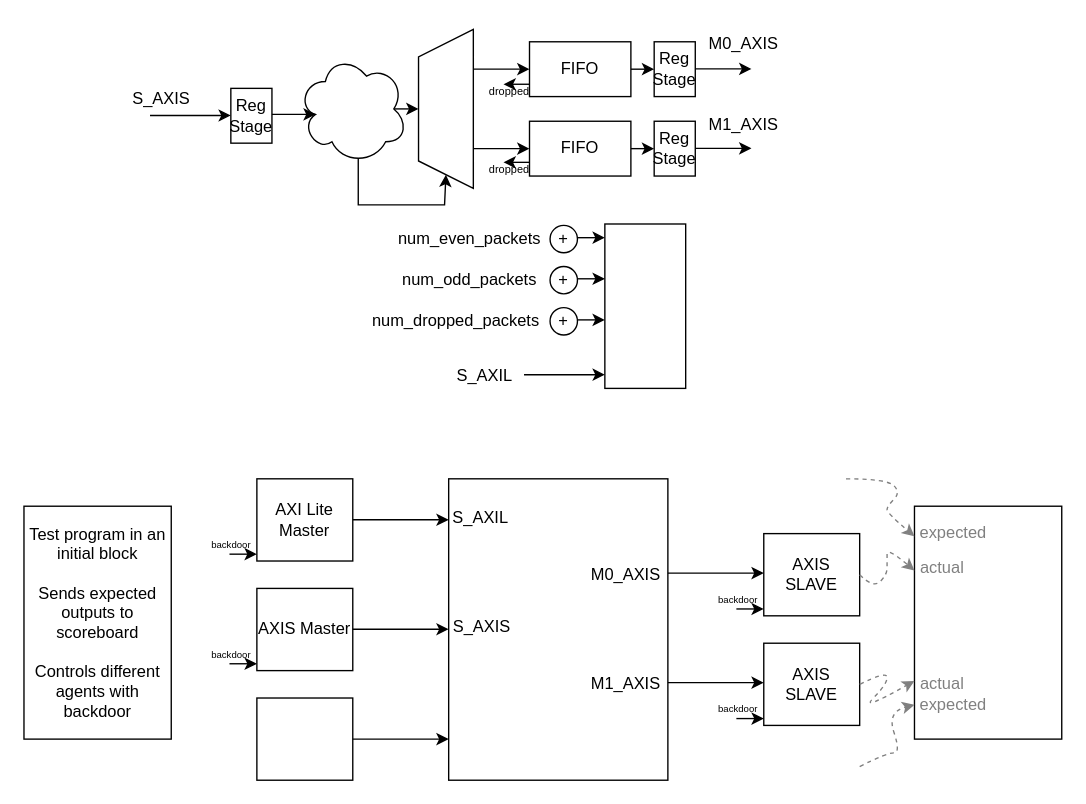
Image size: 1086x804. Some labels were removed from this diagram. Here are the shapes that lost their labels. From the top down, the box of each, then its label:
(297, 53, 408, 164): decision
(603, 223, 686, 388): Register bank
(447, 477, 668, 780): DUT
(913, 505, 1062, 739): Scoreboard
(256, 697, 353, 780): Clk & resets
